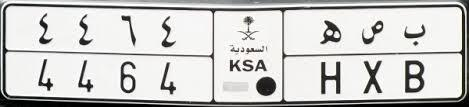4: (159, 16, 178, 95), (77, 13, 95, 93), (36, 13, 54, 91)
6: (119, 14, 138, 95)
B: (403, 23, 426, 93)
H: (319, 19, 342, 94)
X: (361, 19, 384, 94)
